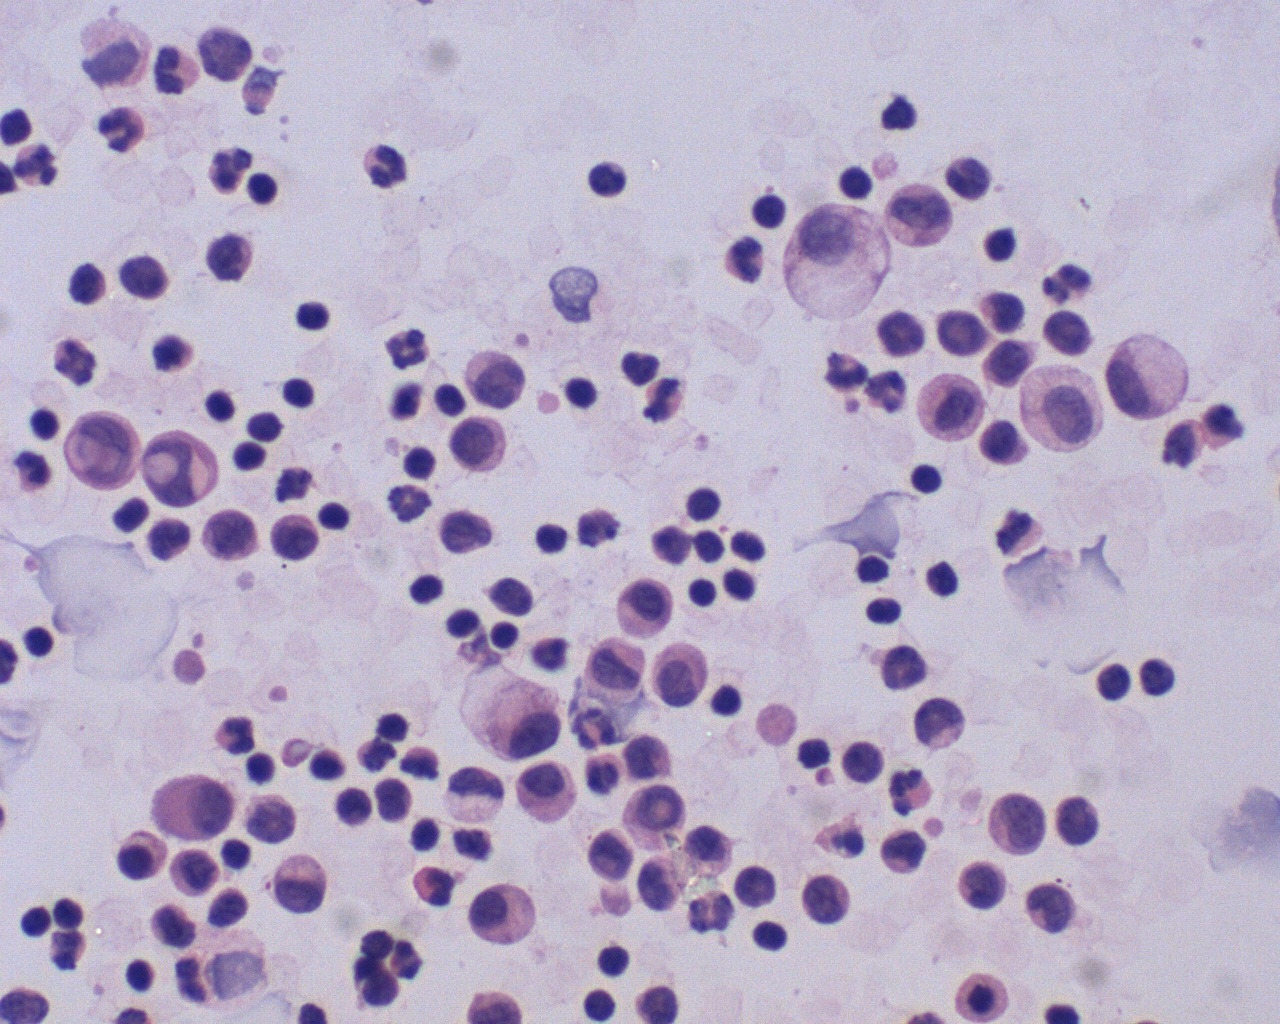ab: (139, 417, 226, 509), (65, 398, 142, 494), (618, 779, 694, 857), (446, 409, 514, 479), (987, 789, 1051, 859), (461, 347, 531, 410), (1020, 872, 1083, 942), (199, 507, 261, 567), (957, 852, 1013, 918), (261, 510, 320, 569), (794, 872, 851, 930), (1054, 793, 1107, 846), (934, 304, 985, 357)
histo: (778, 203, 891, 327), (1106, 330, 1194, 424)
lymph: (605, 569, 683, 639), (678, 480, 734, 530), (285, 293, 338, 339), (275, 370, 321, 416), (976, 223, 1023, 267), (589, 937, 636, 981), (905, 457, 950, 501), (533, 512, 569, 564), (441, 605, 489, 643), (239, 171, 283, 210), (490, 612, 527, 656)
meso: (148, 765, 247, 841), (912, 370, 990, 444), (517, 758, 591, 831), (467, 884, 545, 948), (954, 964, 1014, 1024)
neutro: (359, 131, 411, 201), (95, 99, 148, 162), (881, 766, 944, 818), (718, 229, 769, 290), (378, 323, 434, 373)
